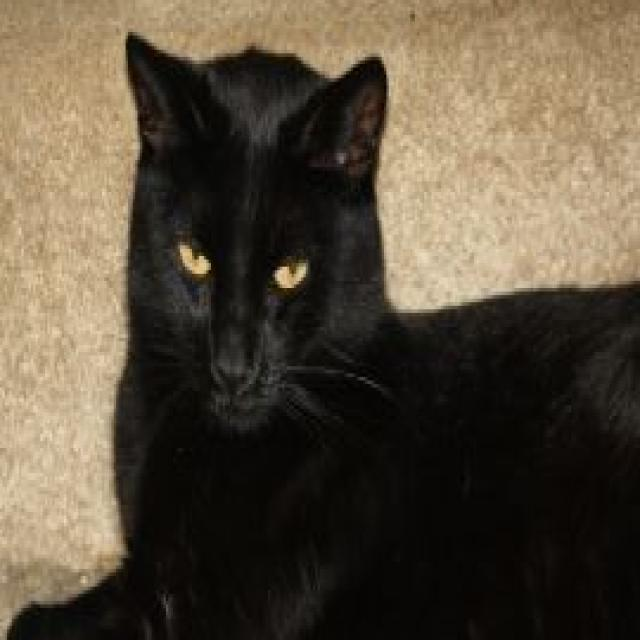Bombay: (2, 25, 640, 640)
